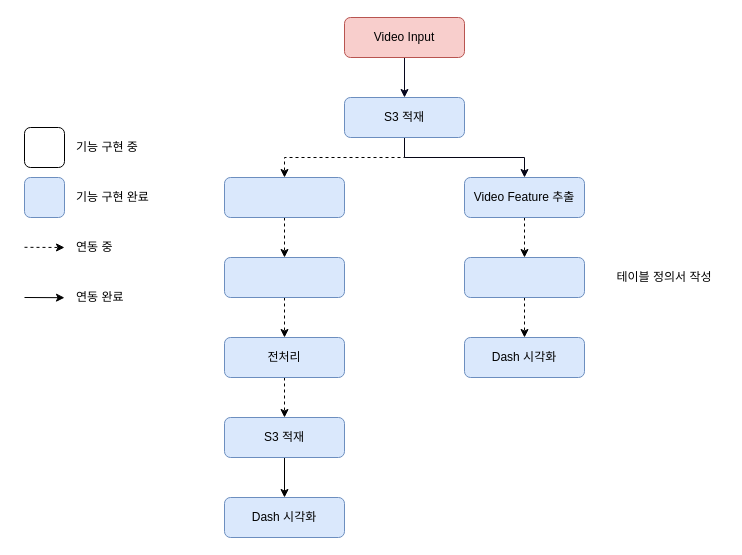
The diagram is 742 pixels wide and 555 high, and some of its shapes have lost their labels. Here are the shapes that lost their labels. From the top down, the box of each, then its label:
(224, 176, 344, 218): Audio 추출
(224, 256, 344, 298): 텍스트 변환
(464, 256, 584, 298): RDS 적재
